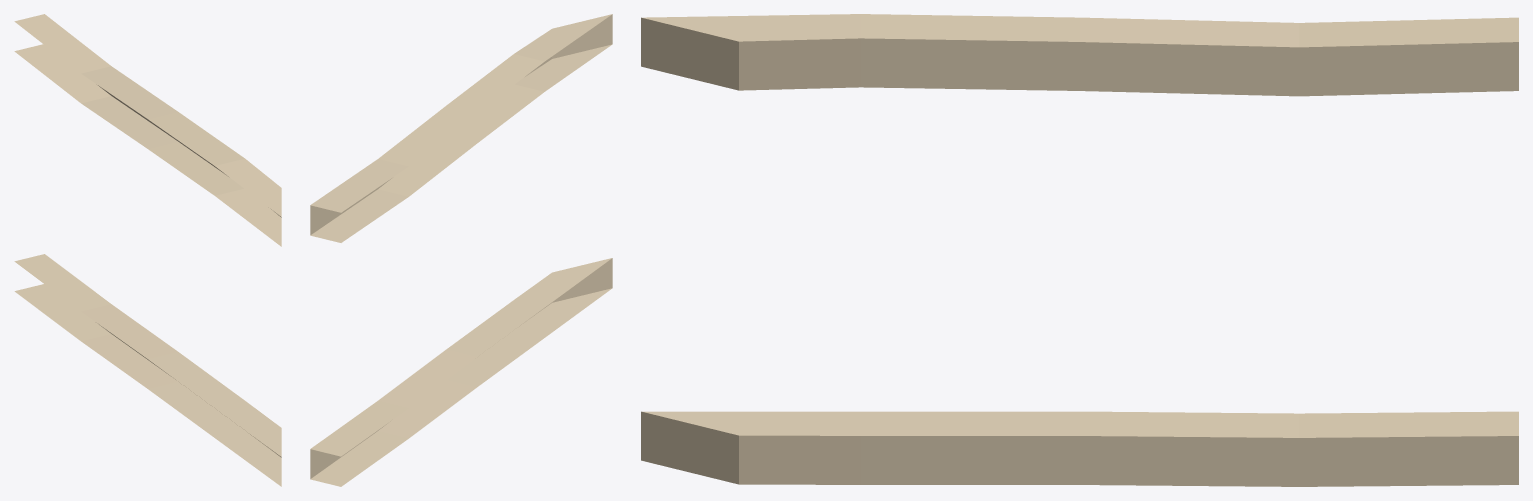
Rendered from Rail Start Crossing.glb.
3 renders of one model, left to right at view 1: azimuth 30°, elevation 25°; view 2: azimuth 150°, elevation 25°; view 3: azimuth 270°, elevation 25°, orthographic. The views are drawn at different scales.
Visible parts, largest first — view 1: Rail_start_crossing; view 2: Rail_start_crossing; view 3: Rail_start_crossing.
Part boxes in pixels (x1=…): Rail_start_crossing: x1=14, y1=14, x2=281, y2=486; Rail_start_crossing: x1=310, y1=14, x2=612, y2=486; Rail_start_crossing: x1=641, y1=14, x2=1518, y2=486.
Bounding box in the file's own units: 0.0465 × 0.3981 × 0.7061.
